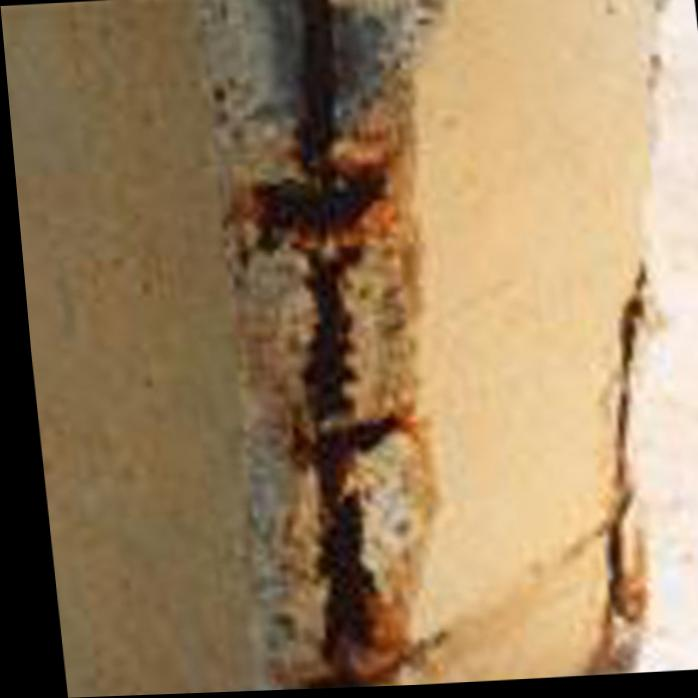crack: (598, 269, 642, 626)
damage: (202, 0, 441, 692)
